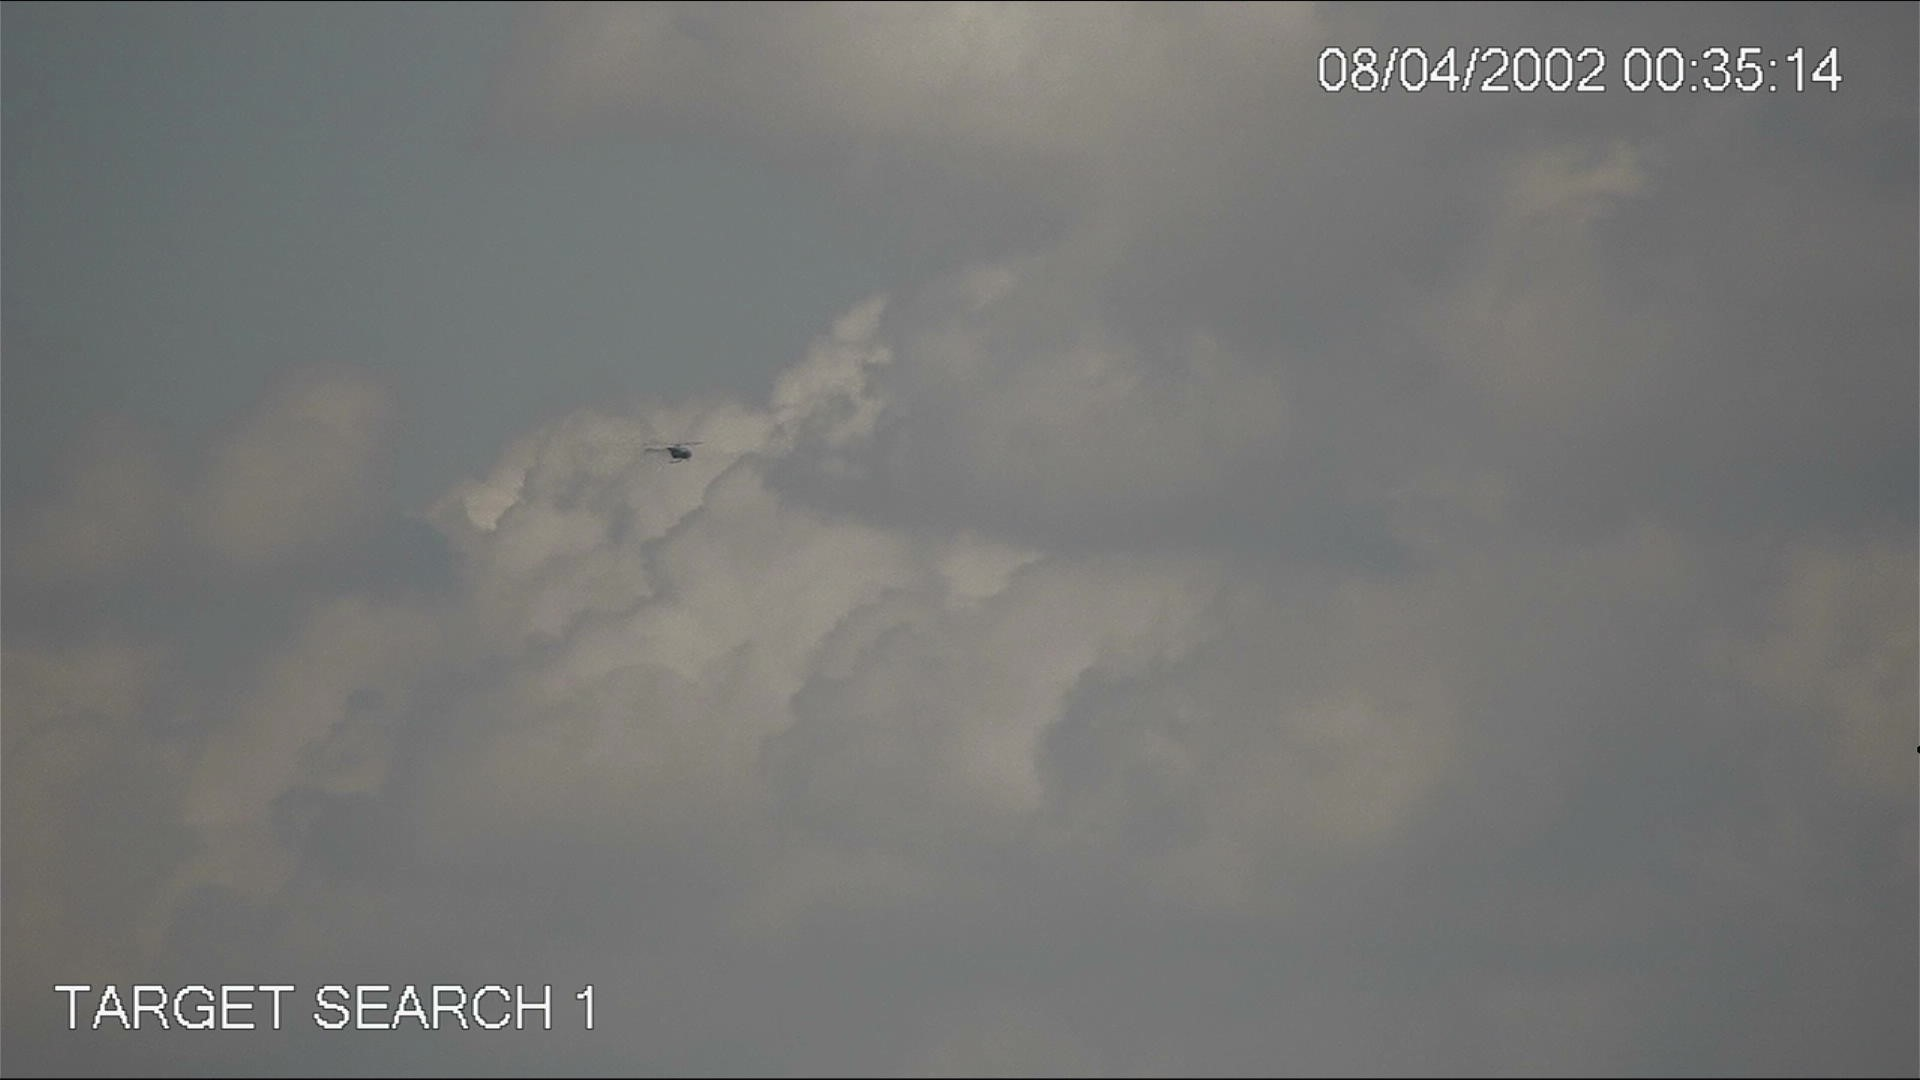SU_30: (640, 439, 705, 465)
